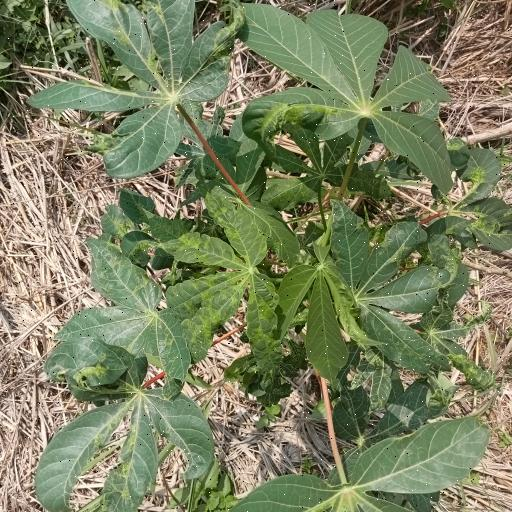Cassava_Mosaic: (37, 4, 247, 176), (148, 187, 286, 376)
